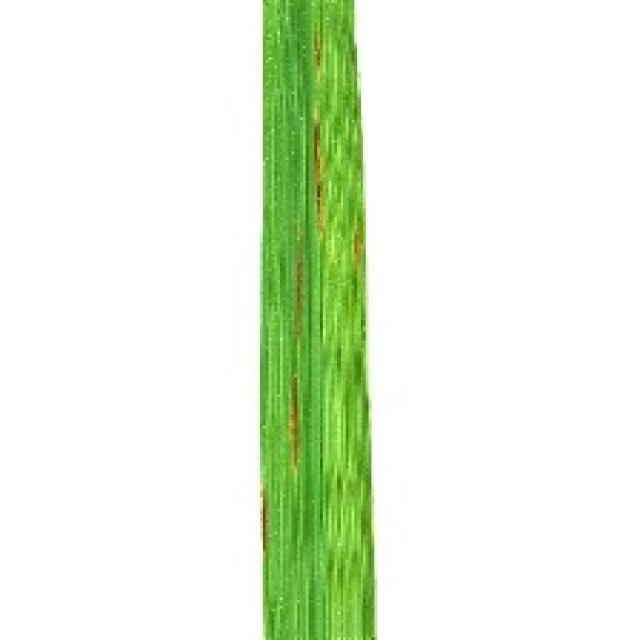Unhealthy: (313, 109, 327, 234), (296, 234, 305, 337), (260, 490, 270, 555), (291, 376, 298, 468), (312, 32, 322, 69), (352, 230, 360, 262)
